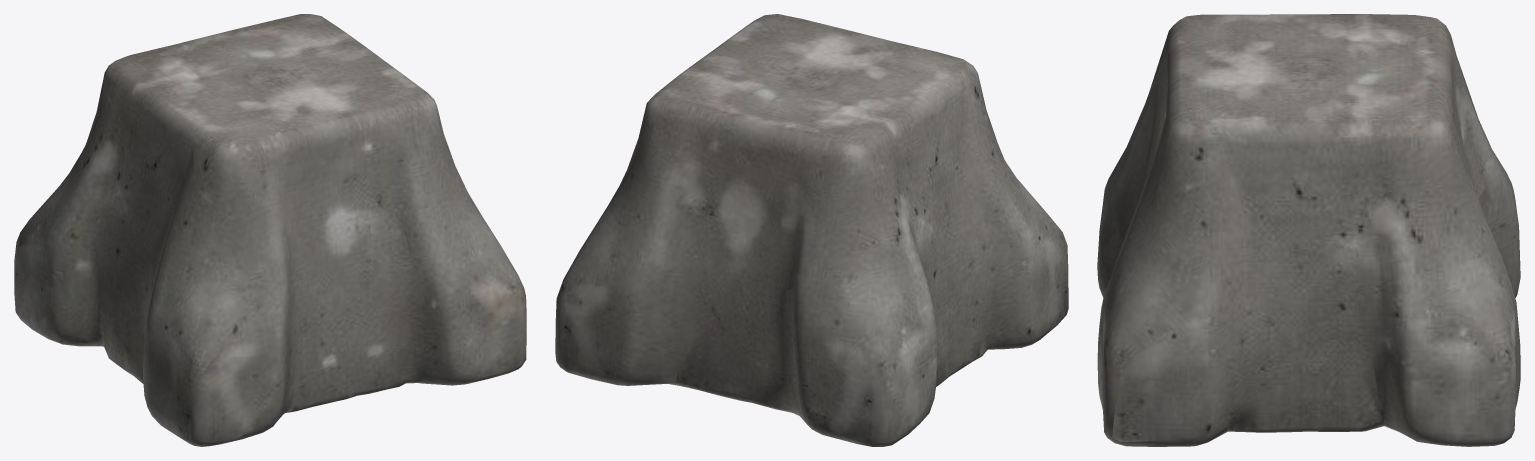
File: tetrapod.glb
3 views of the same model, side by side, from view 1: azimuth 30°, elevation 25°; view 2: azimuth 150°, elevation 25°; view 3: azimuth 270°, elevation 25° (orthographic). The views are drawn at different scales.
Parts seen in each view (by area): view 1: tetrapod; view 2: tetrapod; view 3: tetrapod.
Part boxes in pixels (x1,y1,x2,y2): tetrapod: (14, 14, 526, 446); tetrapod: (555, 14, 1068, 446); tetrapod: (1097, 14, 1520, 446).
Bounding box in the file's own units: 3.27 × 2.4 × 3.16.
1 material, 1 textured.
